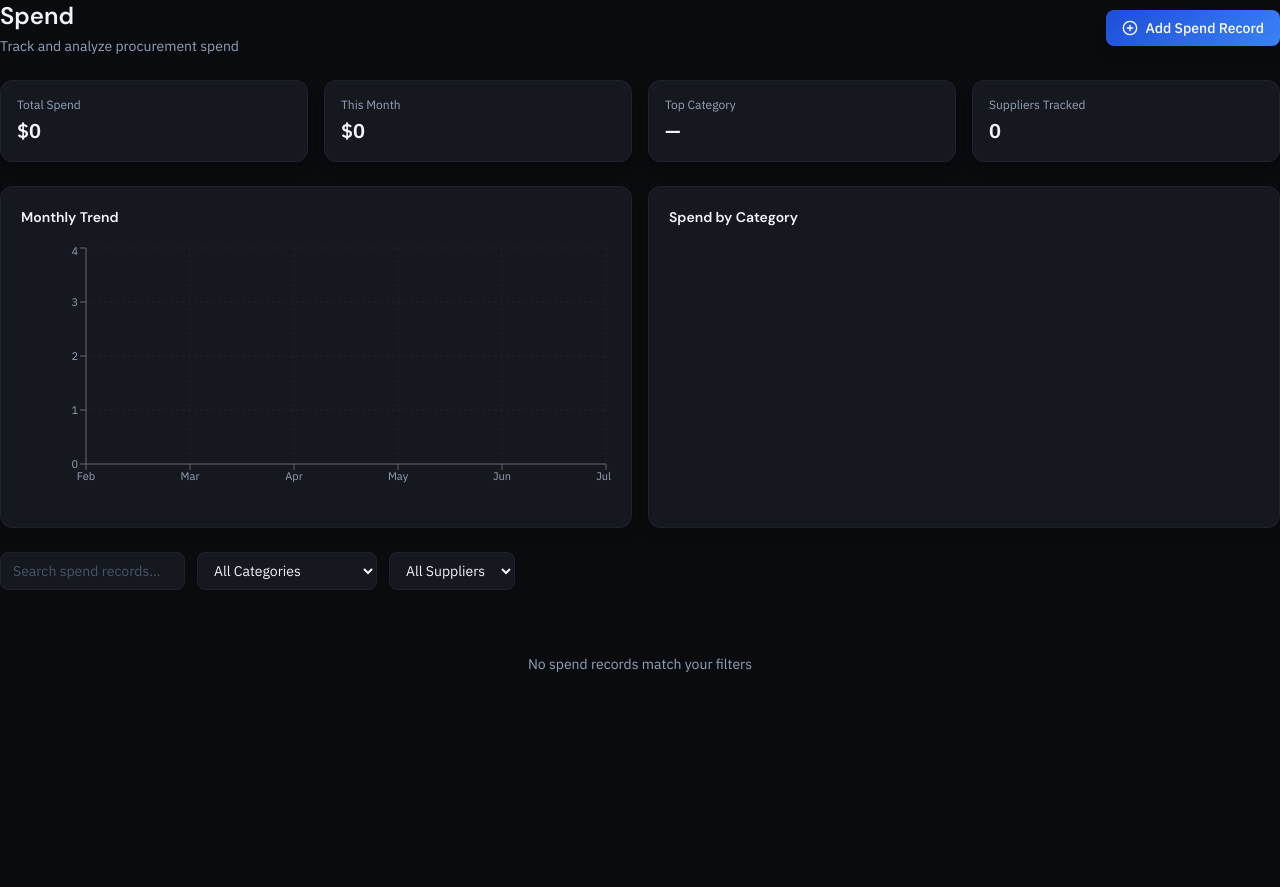
Scenario: Spend › opens the Add Spend Record modal and adds a record to the table
The image size is (1280, 887).
Click the button "Add Spend Record".
click(1193, 28)  # box [1106, 10, 1279, 46]
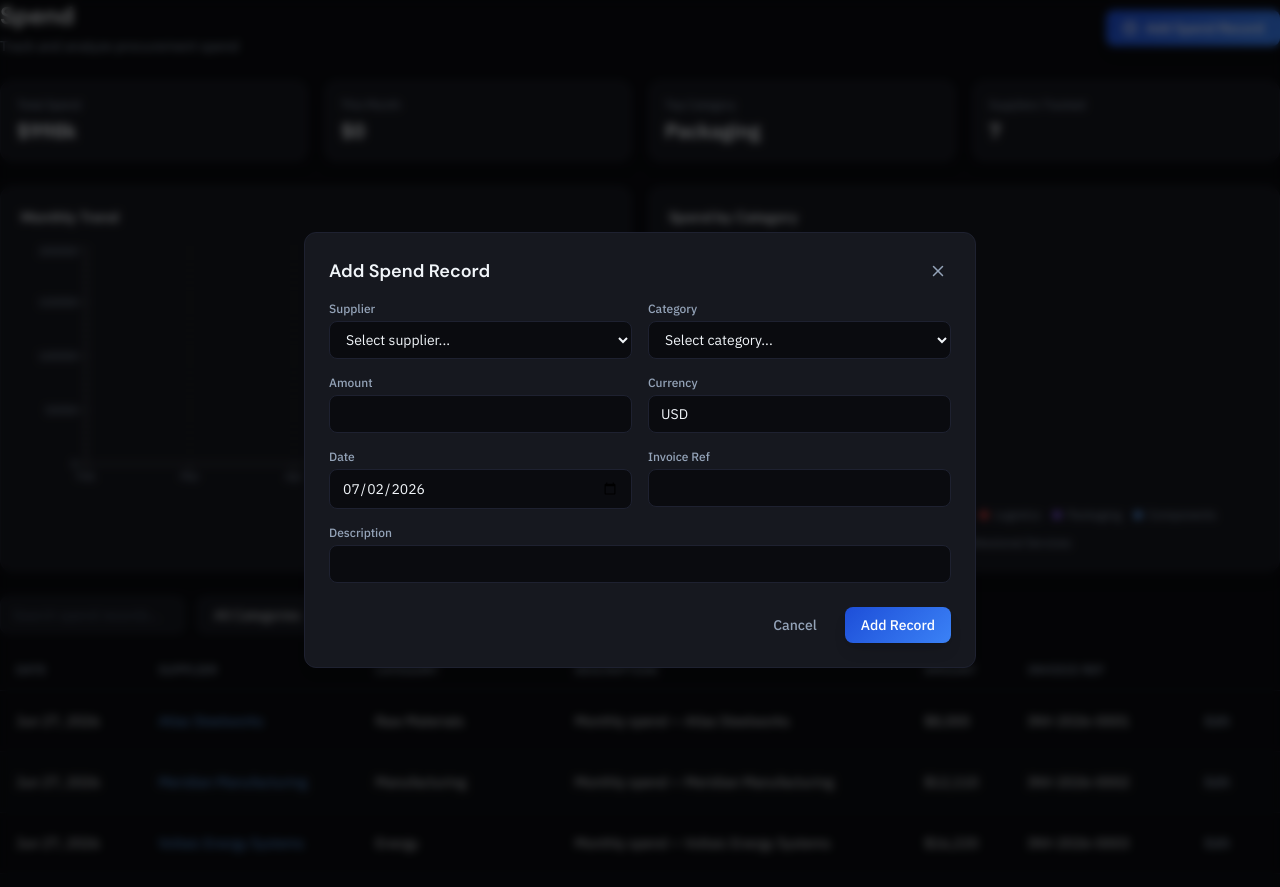
Check: the heading "Add Spend Record" is shown, box [329, 257, 490, 285]
Select "Atlas Steelworks" in the dropdown labelled "Supplier" at point(480, 340), box [329, 321, 632, 359]
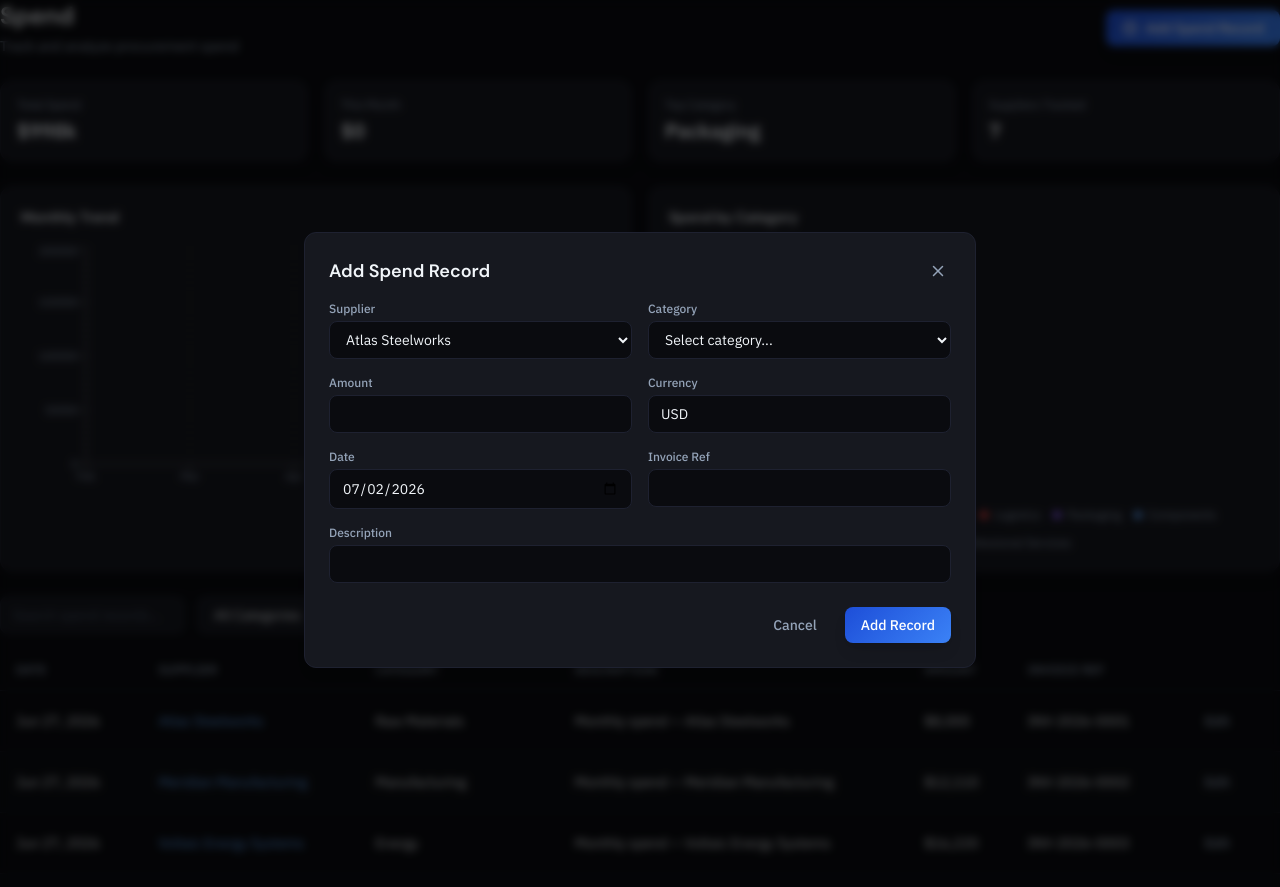
Type "7500" into the number field labelled "Amount".
click(480, 414); type("7500")  # box [329, 395, 632, 433]
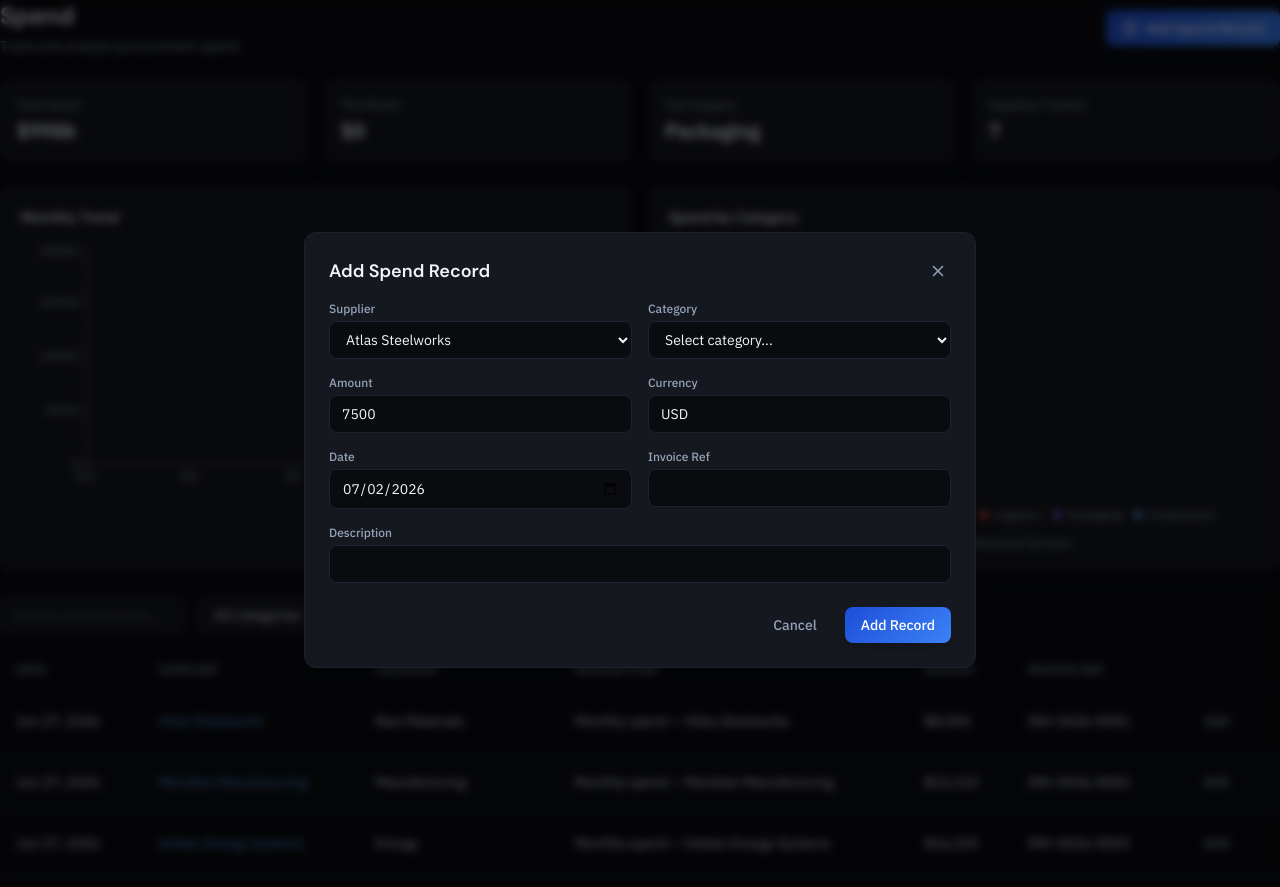
Select "Logistics" in the dropdown labelled "Category" at point(800, 340), box [648, 321, 951, 359]
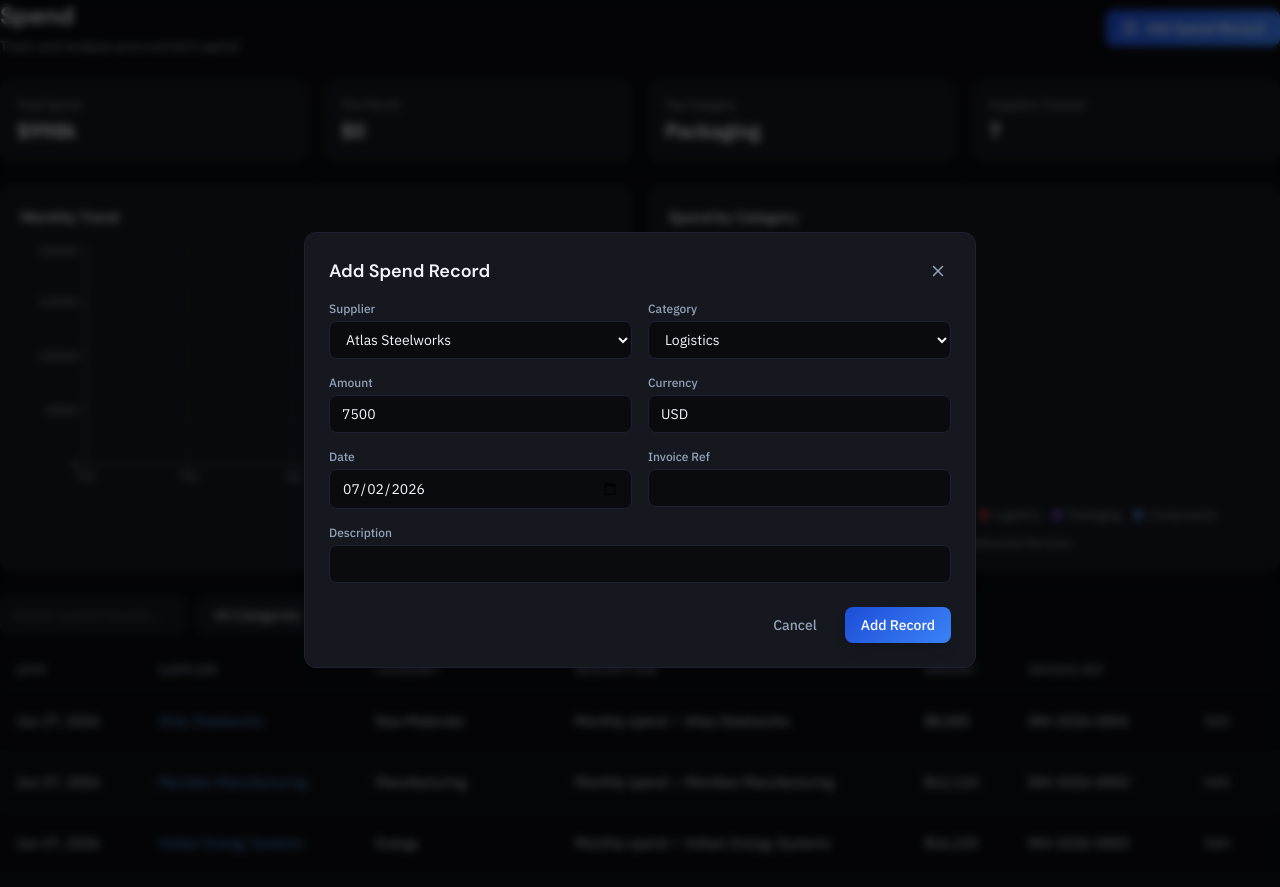
Type "New consulting fee" into the field labelled "Description".
click(640, 564); type("New consulting fee")  # box [329, 545, 951, 583]
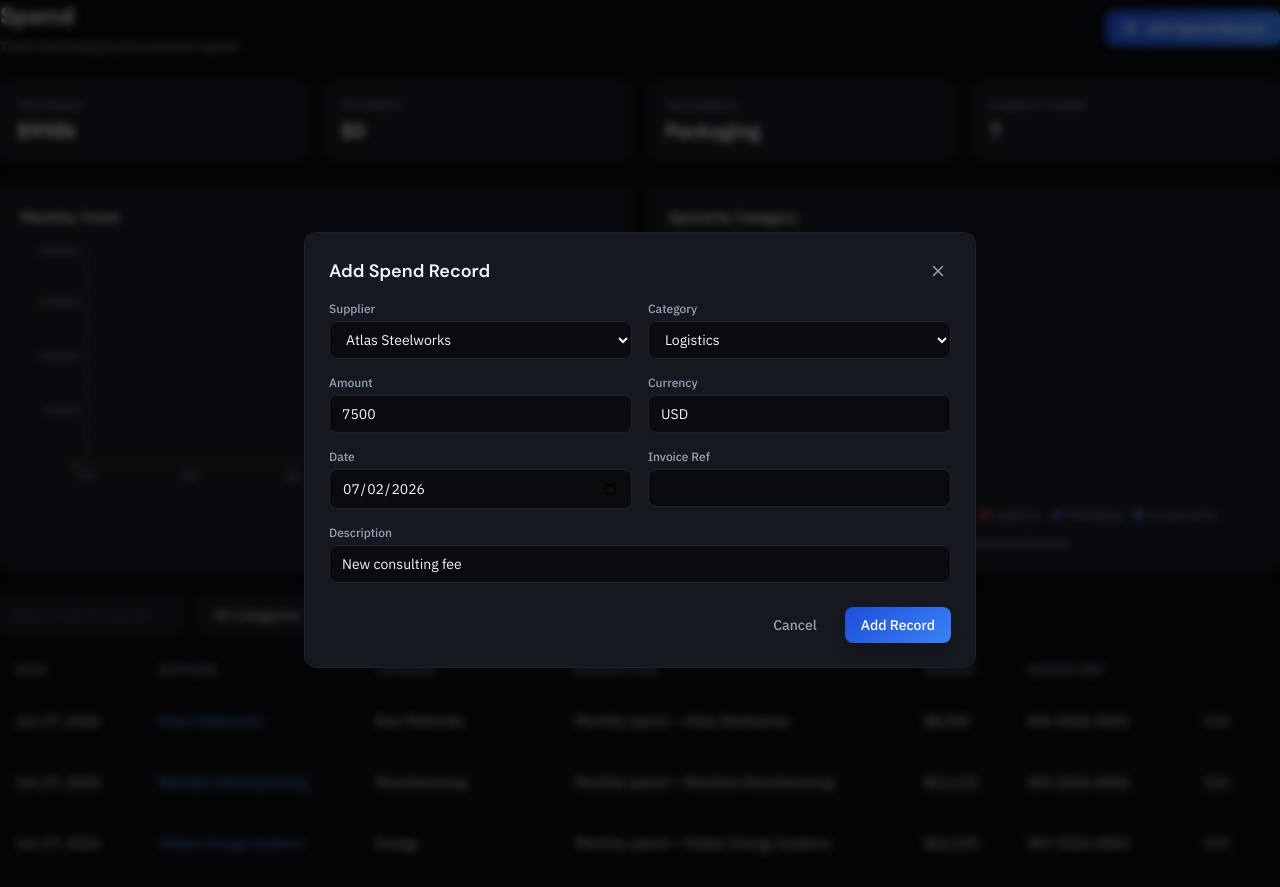
Click the button "Add Record".
click(898, 625)  # box [845, 607, 951, 643]
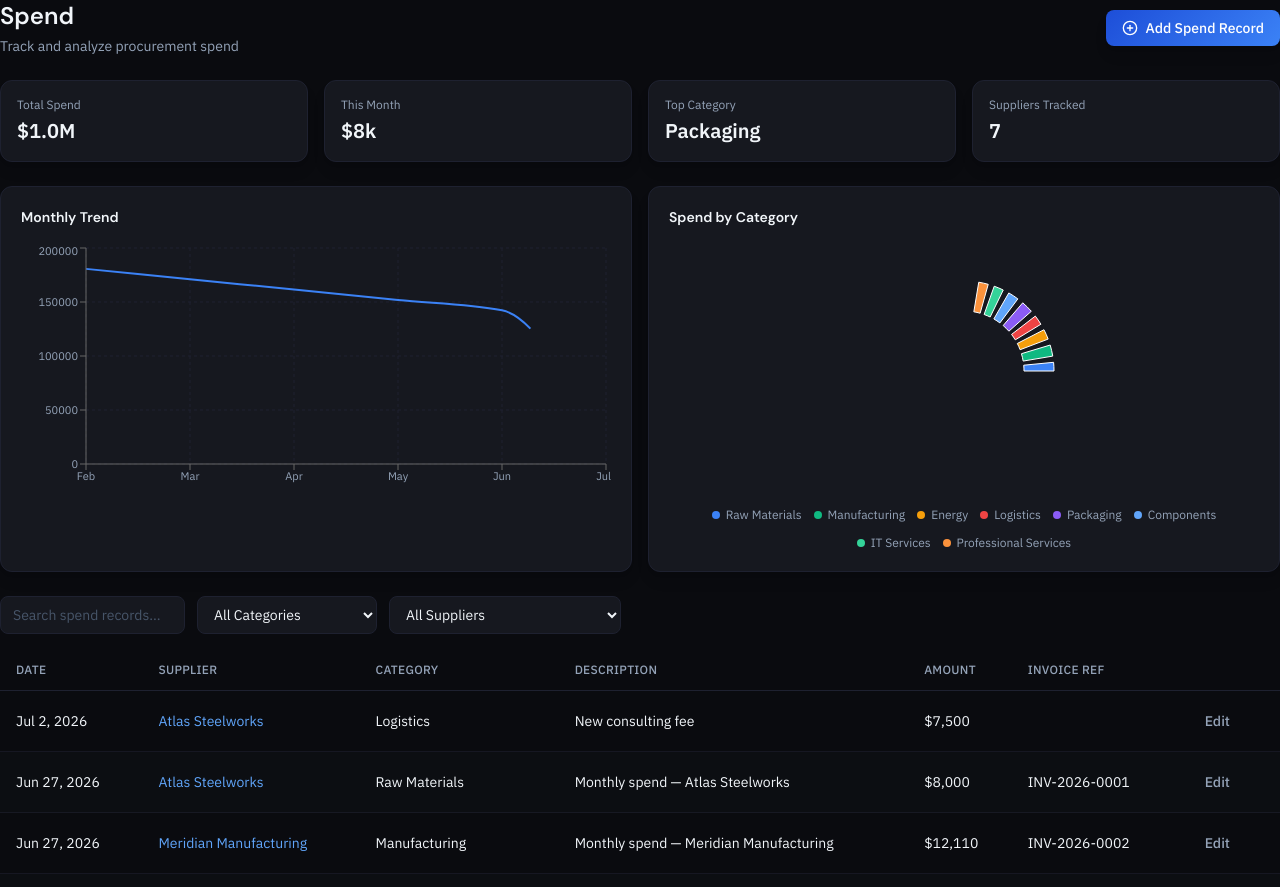
Check: the text "New consulting fee" is shown, box [559, 690, 908, 752]
